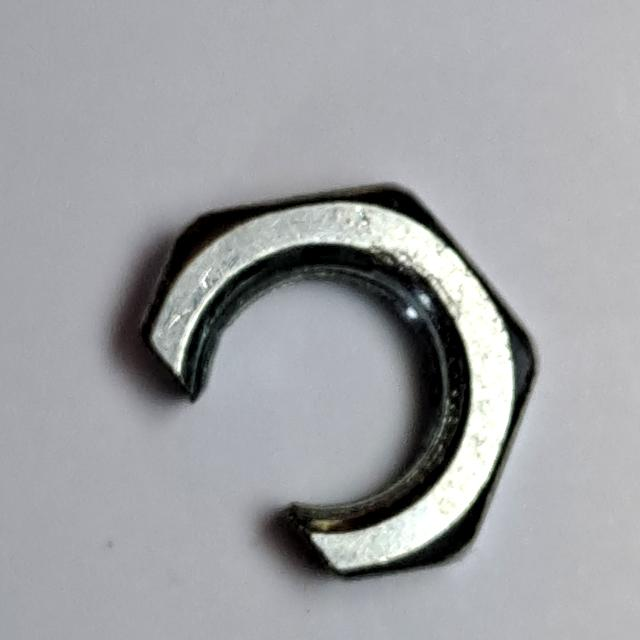Fracture: (130, 168, 553, 595)
